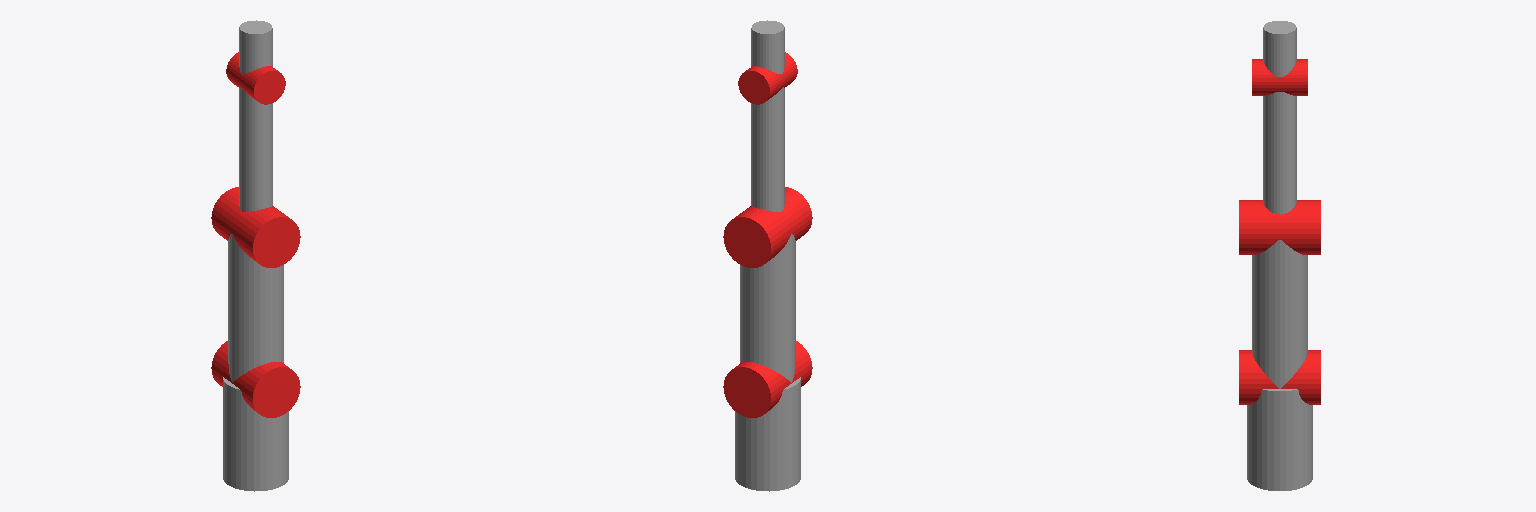
robot.urdf — paperarm:
<?xml version="1.0" ?>
<!-- =================================================================================== -->
<!-- |    This document was autogenerated by xacro from urdf/09-paperarm.urdf.xacro    | -->
<!-- |    EDITING THIS FILE BY HAND IS NOT RECOMMENDED                                 | -->
<!-- =================================================================================== -->
<robot name="paperarm" xmlns:xacro="http://ros.org/wiki/xacro">
  <material name="LightBlue">
    <color rgba="0.5 0.5 1.0 1.0"/>
  </material>
  <material name="LightRed">
    <color rgba="1.0 0.2 0.2 1.0"/>
  </material>
  <material name="LightGreen">
    <color rgba="0.5 1.0 0.5 1.0"/>
  </material>
  <material name="LightGrey">
    <color rgba="0.7 0.7 0.7 1.0"/>
  </material>
  <link name="base_link">
    <visual>
      <geometry>
        <cylinder length="0.1" radius="0.06"/>
      </geometry>
      <origin rpy="0.0 0.0 0.0" xyz="0.0 0.0 0.05"/>
      <material name="LightGrey"/>
    </visual>
  </link>
  <joint name="shoulder_pan_joint" type="revolute">
    <parent link="base_link"/>
    <child link="shoulder_link"/>
    <origin rpy="0.0 0.0 0.0" xyz="0.0 0.0 0.1"/>
    <axis xyz="0 0 1"/>
    <limit effort="150.0" lower="-2.0" upper="2.0" velocity="3.15"/>
  </joint>
  <link name="shoulder_link">
    <visual>
      <geometry>
        <cylinder length="0.1" radius="0.06"/>
      </geometry>
      <origin rpy="0.0 0.0 0.0" xyz="0.0 0.0 0.05"/>
      <material name="LightGrey"/>
    </visual>
  </link>
  <joint name="shoulder_jointX" type="fixed">
    <parent link="shoulder_link"/>
    <child link="shoulder_linkX"/>
    <origin rpy="0.0 0.0 0.0" xyz="0.0 0.0 0.1"/>
  </joint>
  <link name="shoulder_linkX">
    <visual>
      <geometry>
        <cylinder length="0.15" radius="0.05"/>
      </geometry>
      <origin rpy="1.57079632679 0.0 0.0" xyz="0.0 0.0 0.0"/>
      <material name="LightRed"/>
    </visual>
  </link>
  <joint name="shoulder_lift_joint" type="revolute">
    <parent link="shoulder_link"/>
    <child link="upper_arm_link"/>
    <origin rpy="0.0 0.0 0.0" xyz="0.0 0.0 0.1"/>
    <axis xyz="0 1 0"/>
    <limit effort="150.0" lower="-2.0" upper="2.0" velocity="3.15"/>
  </joint>
  <link name="upper_arm_link">
    <visual>
      <geometry>
        <cylinder length="0.3" radius="0.05"/>
      </geometry>
      <origin rpy="0.0 0.0 0.0" xyz="0.0 0.0 0.15"/>
      <material name="LightGrey"/>
    </visual>
  </link>
  <joint name="upper_arm_jointX" type="fixed">
    <parent link="upper_arm_link"/>
    <child link="upper_arm_linkX"/>
    <origin rpy="0.0 0.0 0.0" xyz="0.0 0.0 0.3"/>
  </joint>
  <link name="upper_arm_linkX">
    <visual>
      <geometry>
        <cylinder length="0.15" radius="0.05"/>
      </geometry>
      <origin rpy="1.57079632679 0.0 0.0" xyz="0.0 0.0 0.0"/>
      <material name="LightRed"/>
    </visual>
  </link>
  <joint name="elbow_joint" type="revolute">
    <parent link="upper_arm_link"/>
    <child link="forearm_link"/>
    <origin rpy="0.0 0.0 0.0" xyz="0.0 0.0 0.3"/>
    <axis xyz="0 1 0"/>
    <limit effort="150.0" lower="-2.0" upper="2.0" velocity="3.15"/>
  </joint>
  <link name="forearm_link">
    <visual>
      <geometry>
        <cylinder length="0.2" radius="0.03"/>
      </geometry>
      <origin rpy="0.0 0.0 0.0" xyz="0.0 0.0 0.1"/>
      <material name="LightGrey"/>
    </visual>
  </link>
  <joint name="wrist_1_joint" type="revolute">
    <parent link="forearm_link"/>
    <child link="wrist_1_link"/>
    <origin rpy="0.0 0.0 0.0" xyz="0.0 0.0 0.2"/>
    <axis xyz="0 0 1"/>
    <limit effort="150.0" lower="-2.0" upper="2.0" velocity="3.15"/>
  </joint>
  <link name="wrist_1_link">
    <visual>
      <geometry>
        <cylinder length="0.1" radius="0.03"/>
      </geometry>
      <origin rpy="0.0 0.0 0.0" xyz="0.0 0.0 0.05"/>
      <material name="LightGrey"/>
    </visual>
  </link>
  <joint name="wrist_1_jointX" type="fixed">
    <parent link="wrist_1_link"/>
    <child link="wrist_1_linkX"/>
    <origin rpy="0.0 0.0 0.0" xyz="0.0 0.0 0.1"/>
  </joint>
  <link name="wrist_1_linkX">
    <visual>
      <geometry>
        <cylinder length="0.1" radius="0.0333333333333"/>
      </geometry>
      <origin rpy="1.57079632679 0.0 0.0" xyz="0.0 0.0 0.0"/>
      <material name="LightRed"/>
    </visual>
  </link>
  <joint name="wrist_2_joint" type="revolute">
    <parent link="wrist_1_link"/>
    <child link="wrist_2_link"/>
    <origin rpy="0.0 0.0 0.0" xyz="0.0 0.0 0.1"/>
    <axis xyz="0 1 0"/>
    <limit effort="150.0" lower="-2.0" upper="2.0" velocity="3.15"/>
  </joint>
  <link name="wrist_2_link">
    <visual>
      <geometry>
        <cylinder length="0.05" radius="0.03"/>
      </geometry>
      <origin rpy="0.0 0.0 0.0" xyz="0.0 0.0 0.025"/>
      <material name="LightGrey"/>
    </visual>
  </link>
  <joint name="wrist_3_joint" type="revolute">
    <parent link="wrist_2_link"/>
    <child link="wrist_3_link"/>
    <origin rpy="0.0 0.0 0.0" xyz="0.0 0.0 0.05"/>
    <axis xyz="0 0 1"/>
    <limit effort="150.0" lower="-2.0" upper="2.0" velocity="3.15"/>
  </joint>
  <link name="wrist_3_link">
    <visual>
      <geometry>
        <cylinder length="0.05" radius="0.03"/>
      </geometry>
      <origin rpy="0.0 0.0 0.0" xyz="0.0 0.0 0.025"/>
      <material name="LightGrey"/>
    </visual>
  </link>
  <joint name="ee_fixed_joint" type="fixed">
    <parent link="wrist_3_link"/>
    <child link="ee_link"/>
    <origin rpy="0.0 0.0 0.0" xyz="0.0 0.0 0.05"/>
  </joint>
  <link name="ee_link">
    <collision>
      <geometry>
        <box size="0.01 0.01 0.01"/>
      </geometry>
      <origin rpy="0 0 0" xyz="-0.01 0 0"/>
    </collision>
  </link>
</robot>

--- What the picture shows (computed from the rendered views, not written in the file) ---
3 views of the same robot in one strip: view 1: azimuth 30°, elevation 25°; view 2: azimuth 150°, elevation 25°; view 3: azimuth 270°, elevation 25° (orthographic).
Model paperarm with 11 links and 10 joints (6 revolute, 4 fixed), rooted at base_link, posed every joint at zero.
Visible links, largest first — view 1: upper_arm_link, upper_arm_linkX, base_link, shoulder_linkX, forearm_link, shoulder_link, wrist_1_linkX, wrist_3_link, wrist_1_link; view 2: upper_arm_link, upper_arm_linkX, base_link, shoulder_linkX, forearm_link, shoulder_link, wrist_1_linkX, wrist_3_link, wrist_1_link; view 3: upper_arm_link, upper_arm_linkX, base_link, shoulder_link, forearm_link, shoulder_linkX, wrist_1_linkX, wrist_1_link, wrist_3_link.
Boxes of the visible links, bbox=[...] form: upper_arm_link: bbox=[228, 234, 283, 382]; upper_arm_linkX: bbox=[211, 187, 300, 267]; base_link: bbox=[223, 430, 288, 491]; shoulder_linkX: bbox=[211, 341, 300, 417]; forearm_link: bbox=[239, 127, 272, 211]; shoulder_link: bbox=[223, 377, 288, 441]; wrist_1_linkX: bbox=[226, 52, 285, 104]; wrist_3_link: bbox=[239, 20, 272, 58]; wrist_1_link: bbox=[239, 87, 272, 133]; upper_arm_link: bbox=[740, 234, 795, 382]; upper_arm_linkX: bbox=[723, 187, 812, 267]; base_link: bbox=[735, 430, 800, 491]; shoulder_linkX: bbox=[723, 341, 812, 417]; forearm_link: bbox=[751, 127, 784, 211]; shoulder_link: bbox=[735, 377, 800, 441]; wrist_1_linkX: bbox=[738, 52, 797, 104]; wrist_3_link: bbox=[751, 20, 784, 58]; wrist_1_link: bbox=[751, 87, 784, 133]; upper_arm_link: bbox=[1252, 240, 1307, 388]; upper_arm_linkX: bbox=[1239, 200, 1320, 254]; base_link: bbox=[1247, 430, 1312, 490]; shoulder_link: bbox=[1247, 389, 1312, 440]; forearm_link: bbox=[1263, 128, 1296, 214]; shoulder_linkX: bbox=[1239, 350, 1320, 404]; wrist_1_linkX: bbox=[1252, 59, 1307, 95]; wrist_1_link: bbox=[1263, 92, 1296, 133]; wrist_3_link: bbox=[1263, 21, 1296, 58].
Bounding box of the posed robot: 0.12 × 0.15 × 0.9 m (x, y, z).
Geometry: primitives only (box / cylinder / sphere), no mesh files.